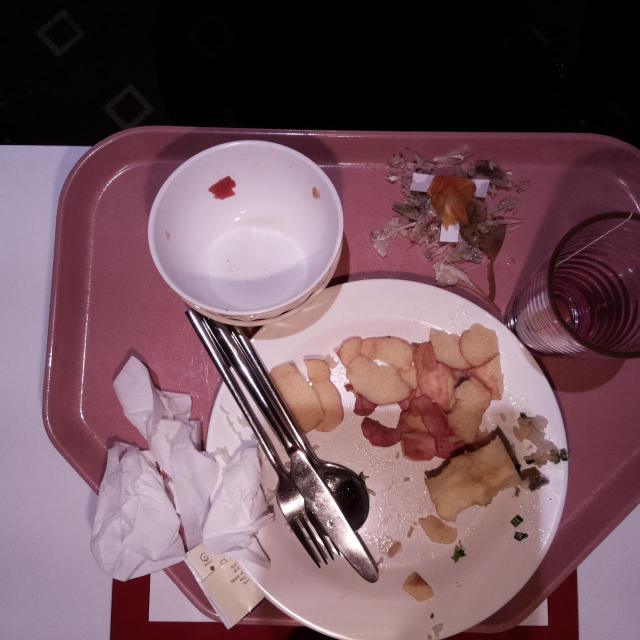Apple-core: (425, 429, 523, 523)
Apple-peel: (413, 322, 499, 450), (268, 357, 346, 433), (340, 334, 417, 406)
Bone-fish: (390, 152, 525, 266)
